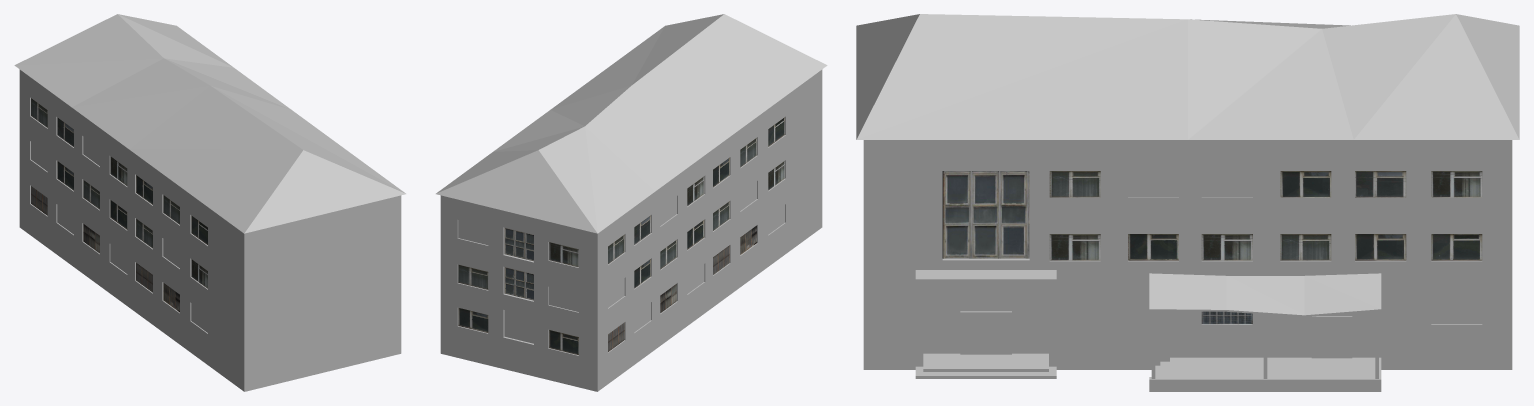
The model's file is TDAWV2_Barracks.fbx.
3 renders of one model, left to right at view 1: azimuth 30°, elevation 25°; view 2: azimuth 150°, elevation 25°; view 3: azimuth 270°, elevation 25°, orthographic. The views are drawn at different scales.
Visible parts, largest first — view 1: TDAWV2_Barracks; view 2: TDAWV2_Barracks; view 3: TDAWV2_Barracks.
Boxes of the visible parts, box(x1,y1,x2,y2) form: TDAWV2_Barracks: box(14, 14, 405, 391); TDAWV2_Barracks: box(436, 14, 827, 391); TDAWV2_Barracks: box(856, 14, 1519, 391).
Size of the model in its own units: 14043 by 29257 by 14639.
